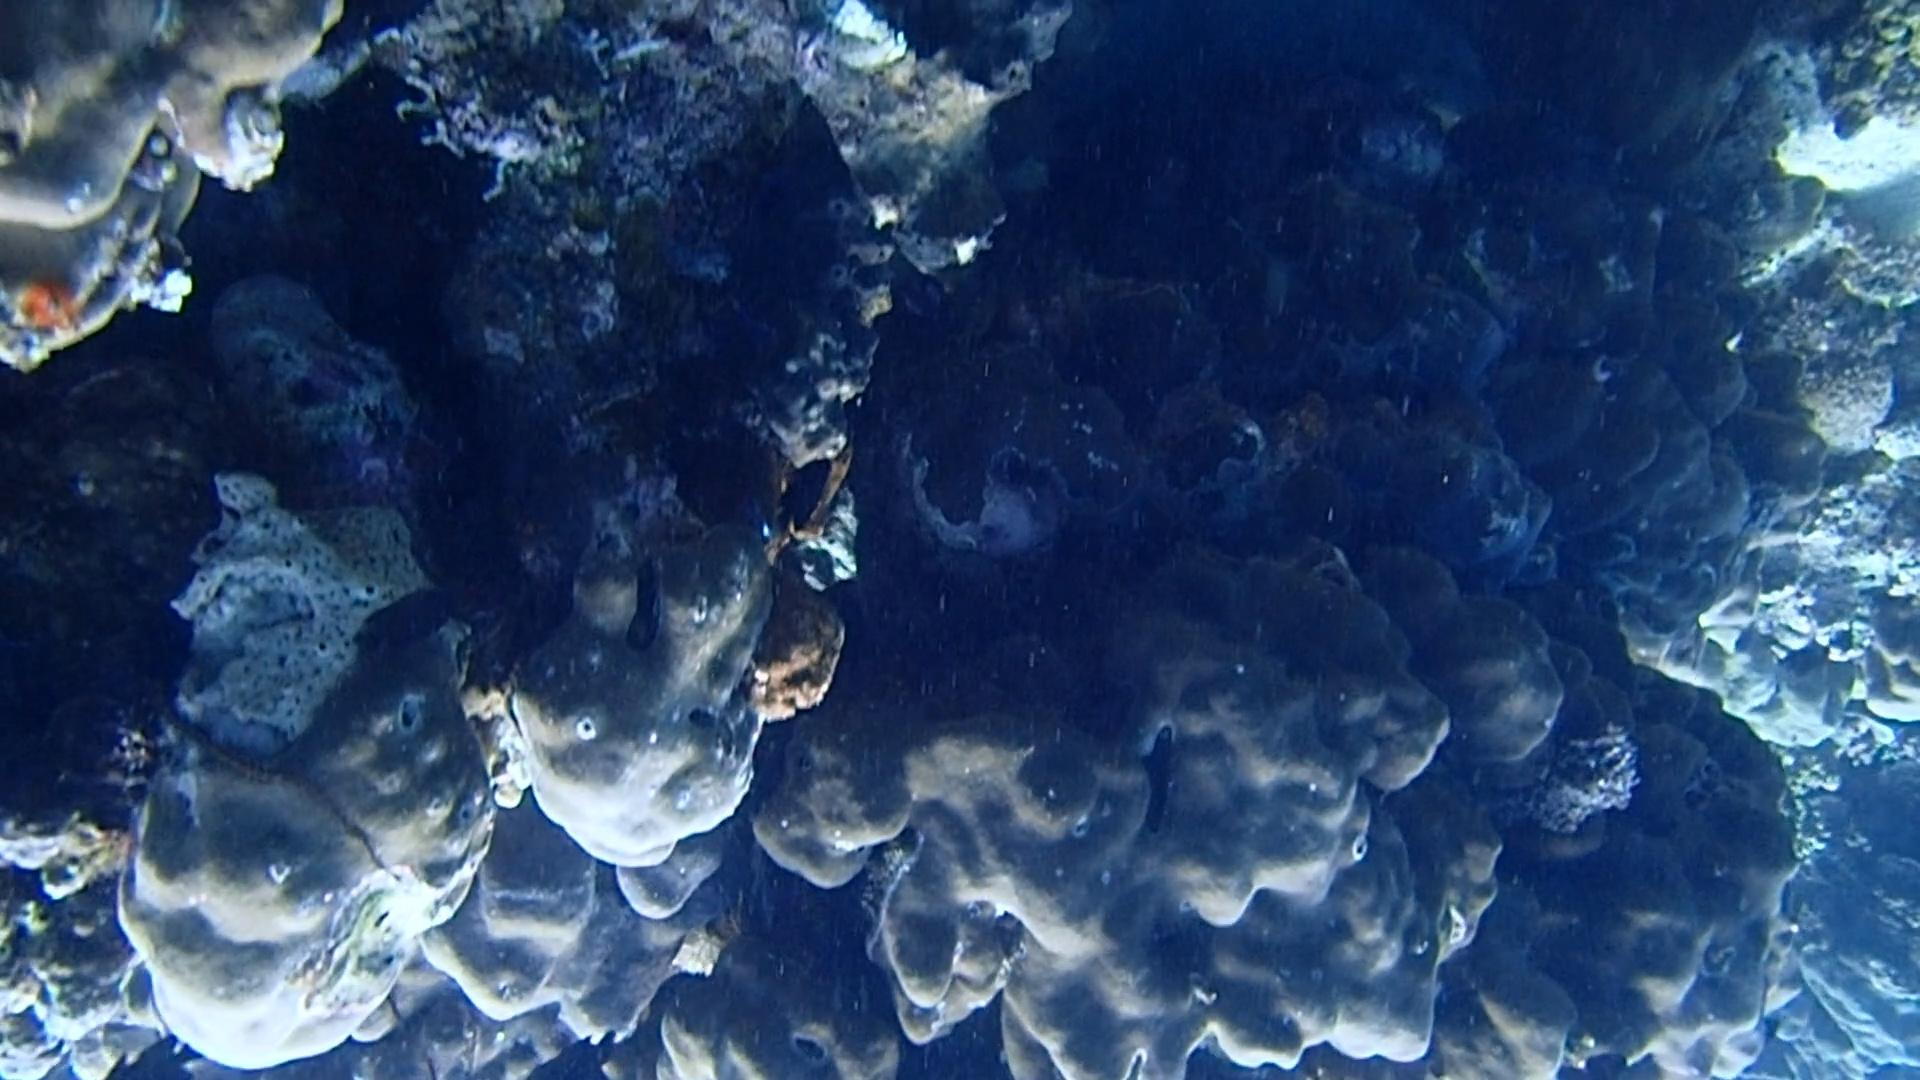Dark Fish: (760, 446, 833, 546)
